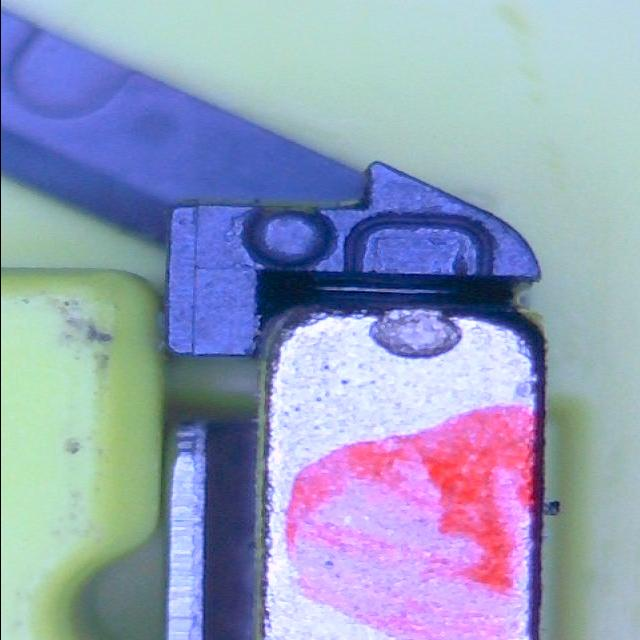lacking: (345, 210, 497, 284)
